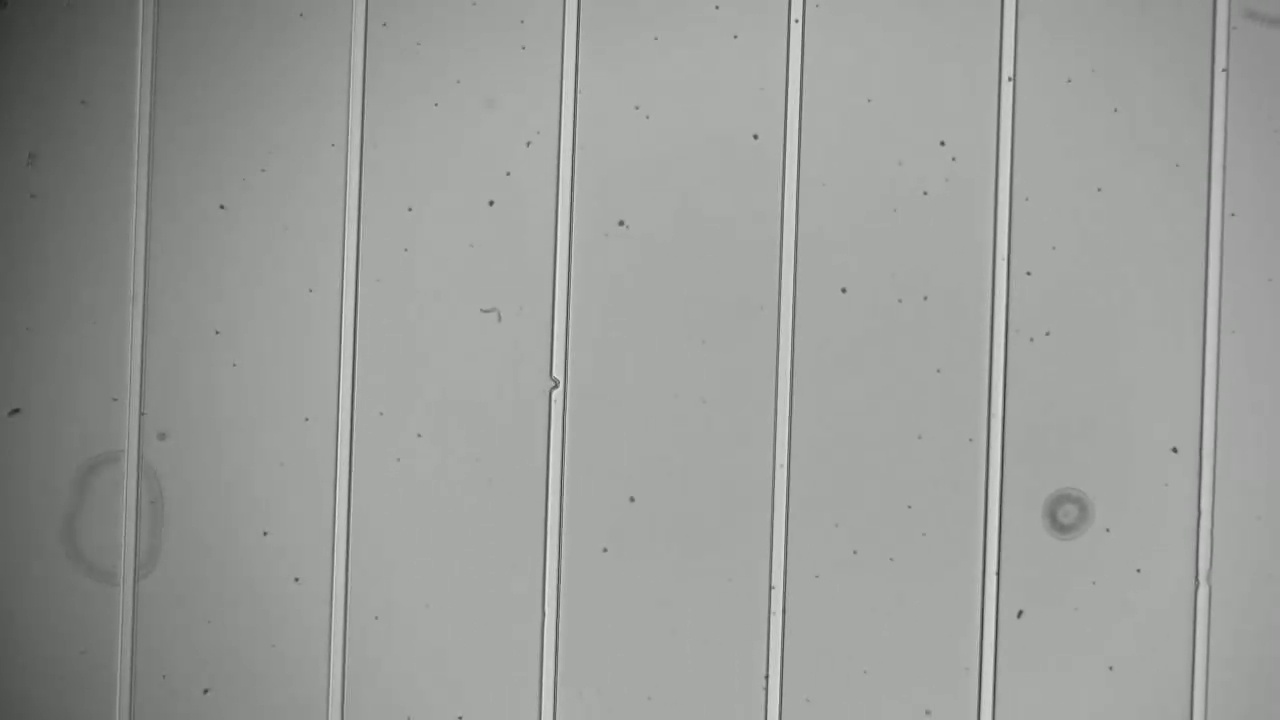edge_bite: (1182, 554, 1224, 600), (543, 370, 577, 401)
